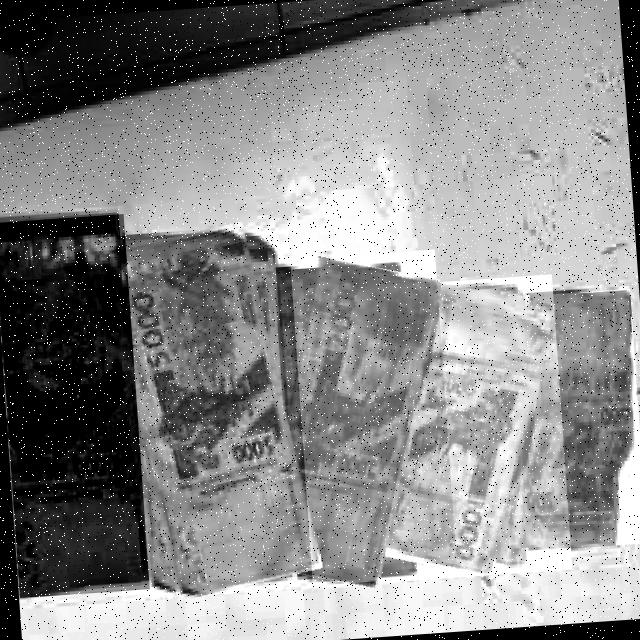junni: (98, 234, 310, 595)
niaar junni: (0, 217, 148, 597)
niaar teemeer: (385, 281, 554, 575)
nient teemeer: (260, 257, 436, 580)
teemeer: (525, 294, 633, 545)
